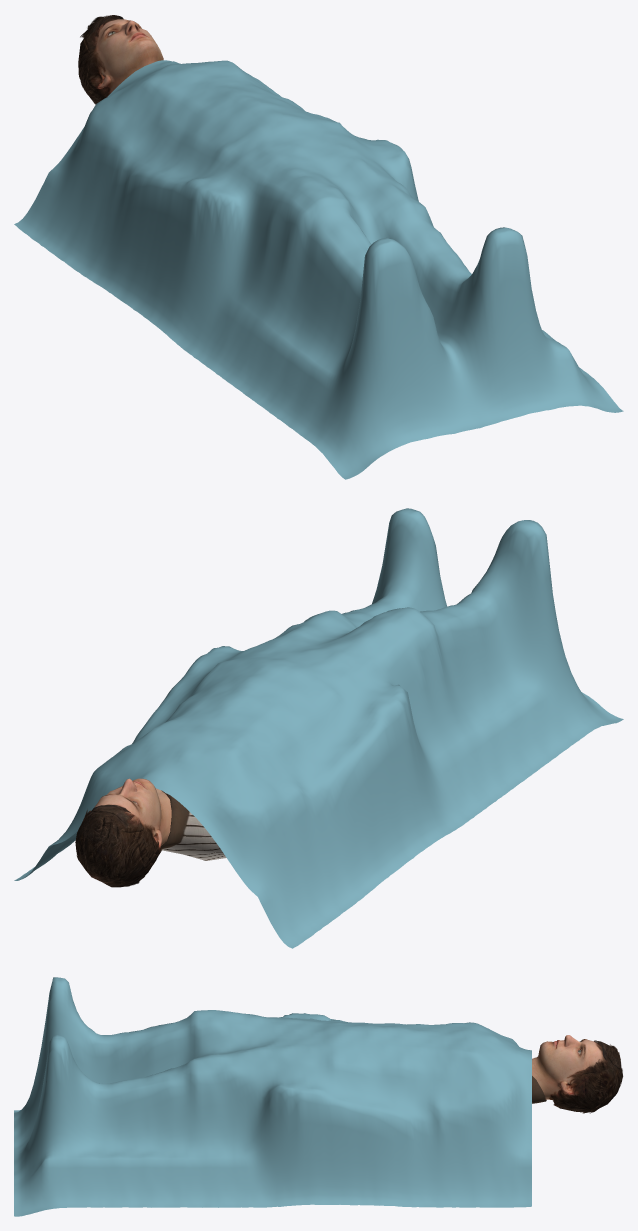
File: patient-supine.glb
The picture shows the model from 3 angles, top to bottom: view 1: azimuth 30°, elevation 25°; view 2: azimuth 150°, elevation 25°; view 3: azimuth 270°, elevation 25°; orthographic projection. The views are drawn at different scales.
Parts seen in each view (by area): view 1: patient_drape, patient_body; view 2: patient_drape, patient_body; view 3: patient_drape, patient_body.
Boxes of the visible parts, left/top/right/bottom form: patient_drape: left=14, top=60, right=623, bottom=479; patient_body: left=78, top=15, right=163, bottom=104; patient_drape: left=14, top=508, right=623, bottom=948; patient_body: left=75, top=778, right=226, bottom=887; patient_drape: left=14, top=977, right=531, bottom=1216; patient_body: left=532, top=1035, right=623, bottom=1113.
Size of the model in its own units: 0.8 by 0.5513 by 1.94.
4 materials, 3 textured.
